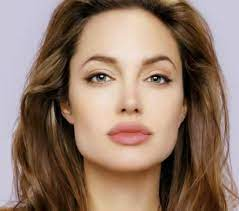n.sharp: (117, 74, 143, 117)
